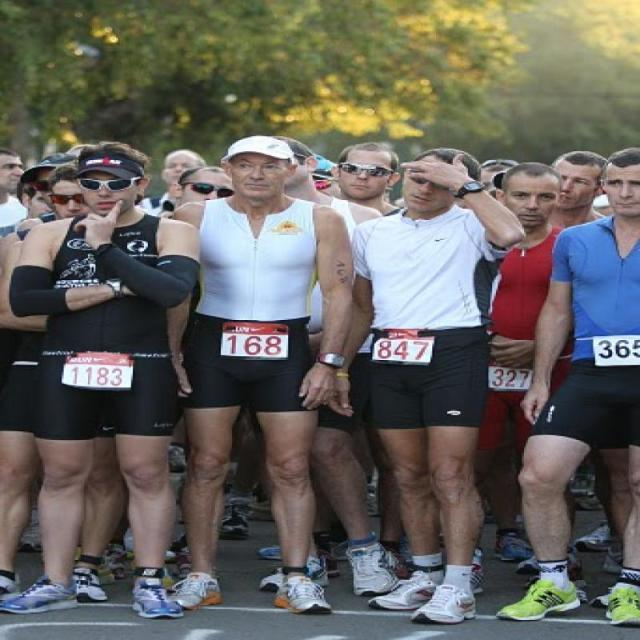dorsal: (219, 318, 293, 360), (60, 350, 136, 390), (370, 328, 434, 364), (484, 357, 538, 392), (587, 332, 640, 367)
